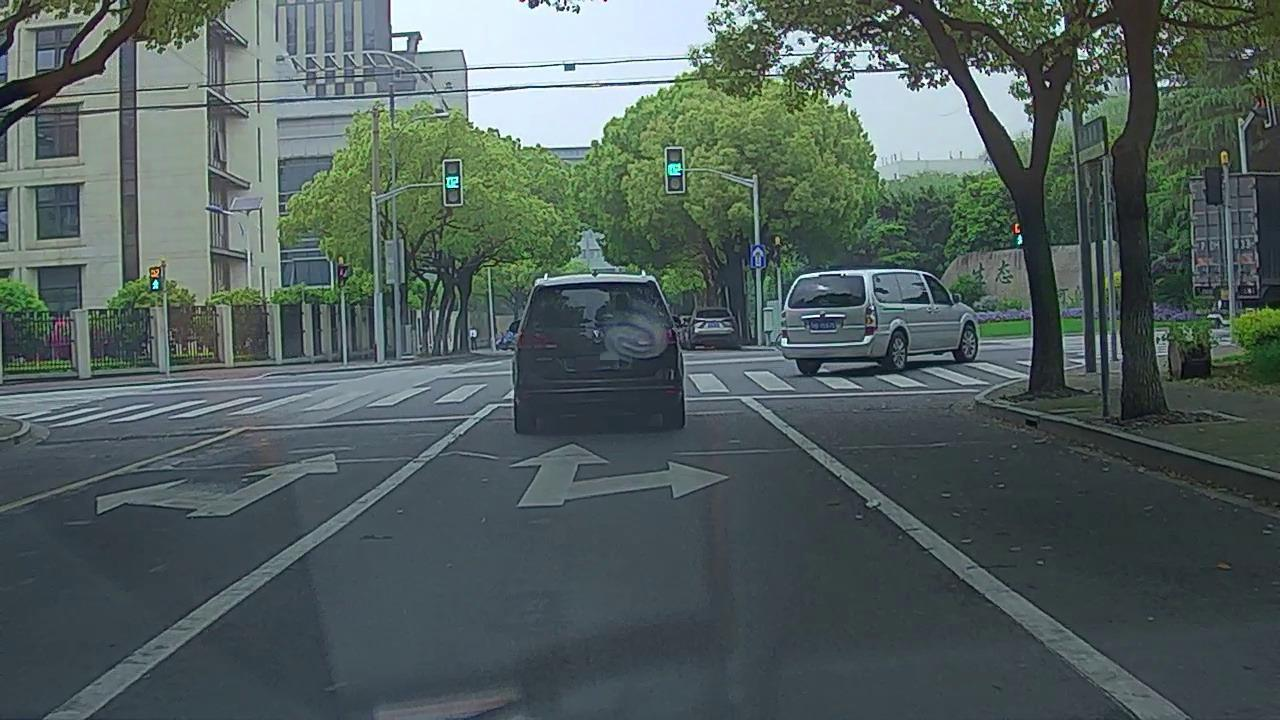traffic_light: (445, 161, 461, 205), (667, 149, 683, 191)
